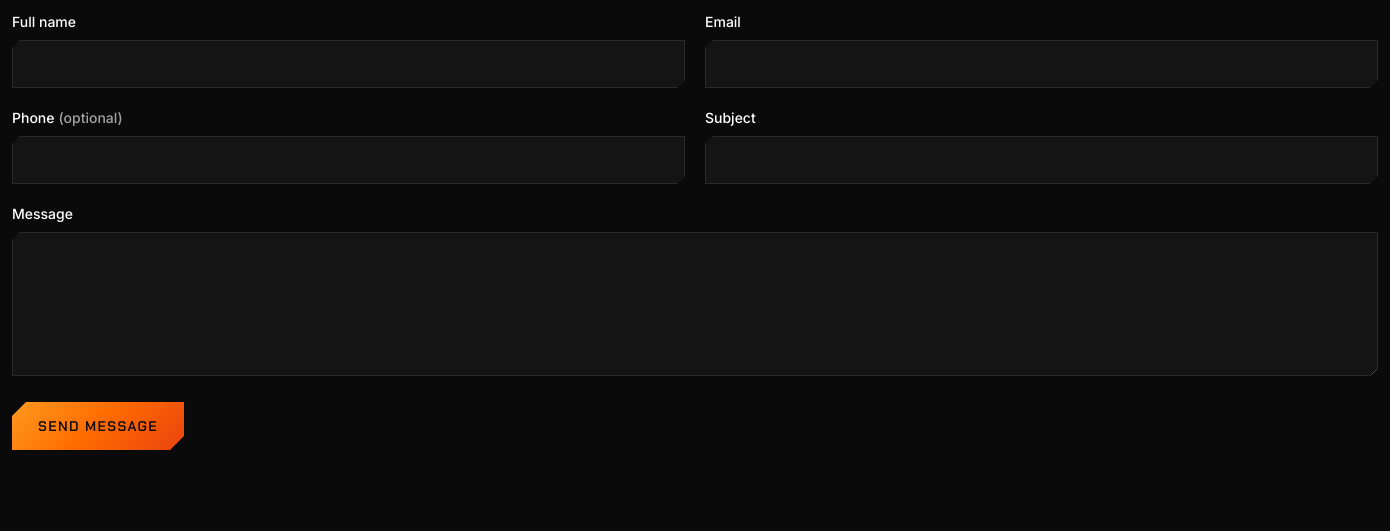
ContactForm › shows a friendly error when rate limited
Type "Ayesha Malik" into the field labelled "Full name". click: x=348, y=64
box: [12,40,685,88]
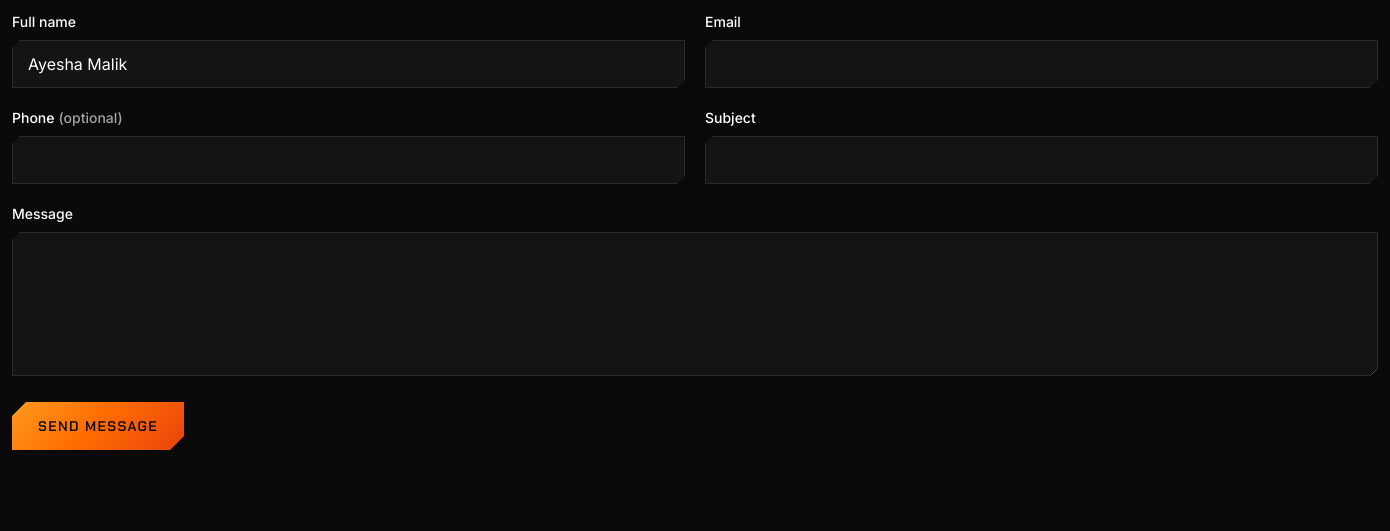
Type "ayesha@example.com" into the field labelled "Email". click: x=1042, y=64
box: [705,40,1378,88]
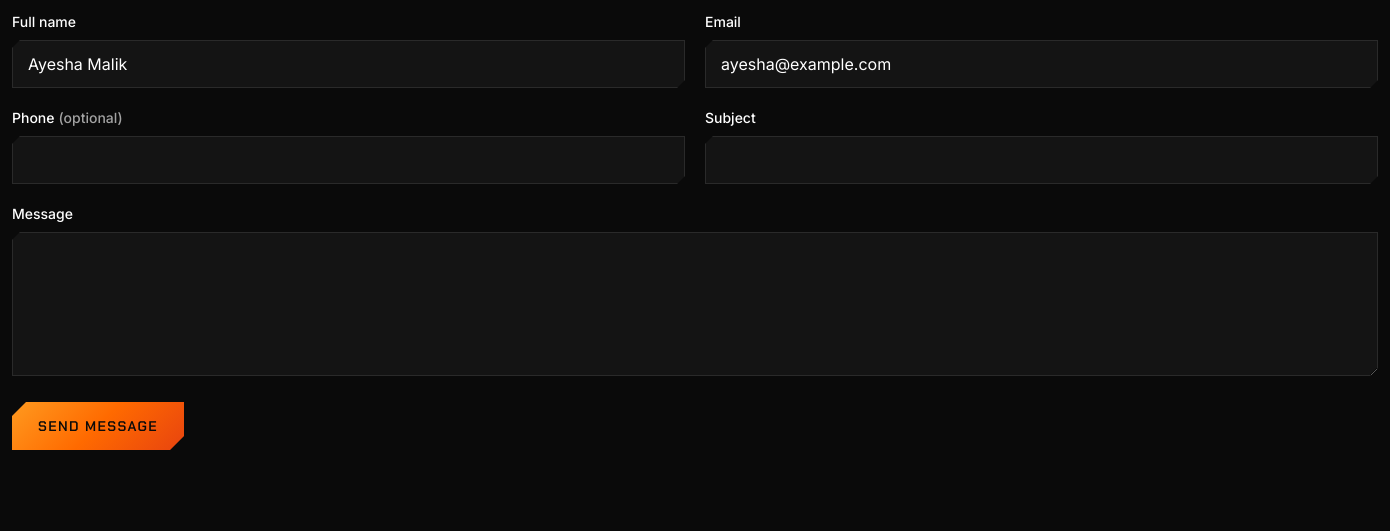
Type "Pricing for a QA tester" into the field labelled "Subject". click: x=1042, y=160
box: [705,136,1378,184]
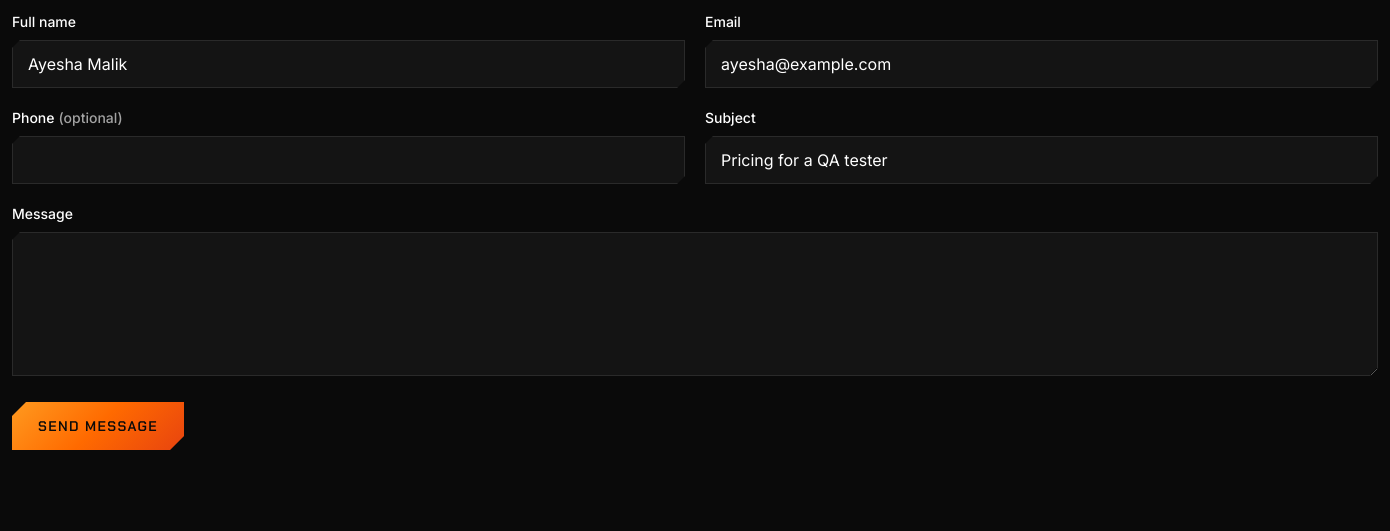
Type "We need one QA tester for three months, on-site in Lahore." into the text box labelled "Message". click: x=695, y=304
box: [12,232,1378,376]
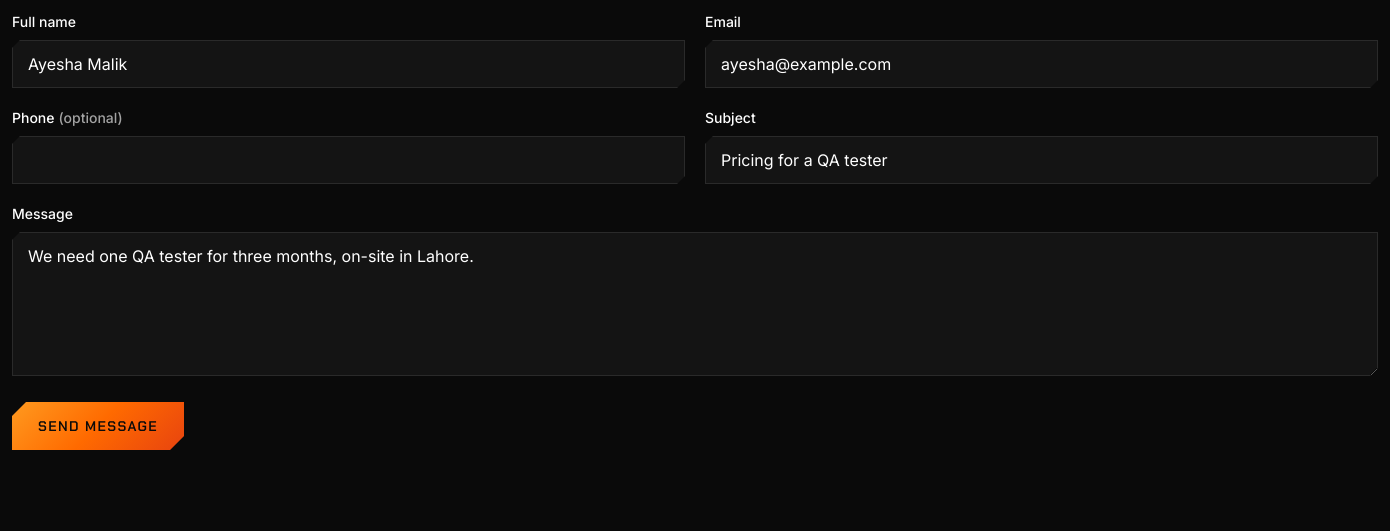
Click the button "Send message". click: x=98, y=426
box: [12,402,184,450]
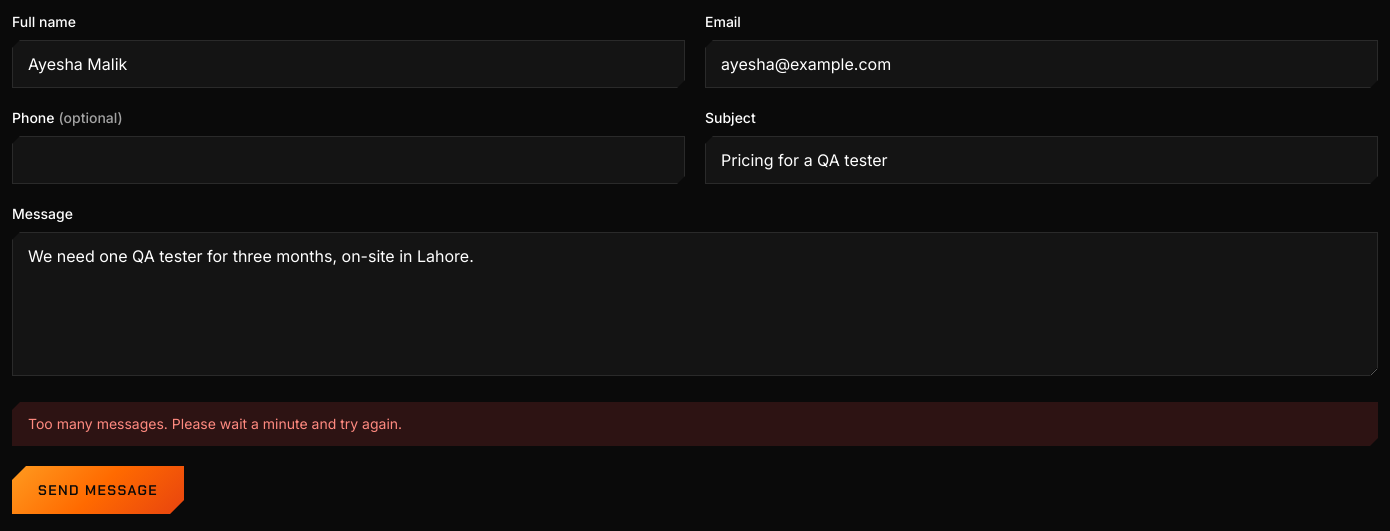
Expected: the text "Too many messages. Please wait a minute and try again." is shown, [12,402,1378,446]
